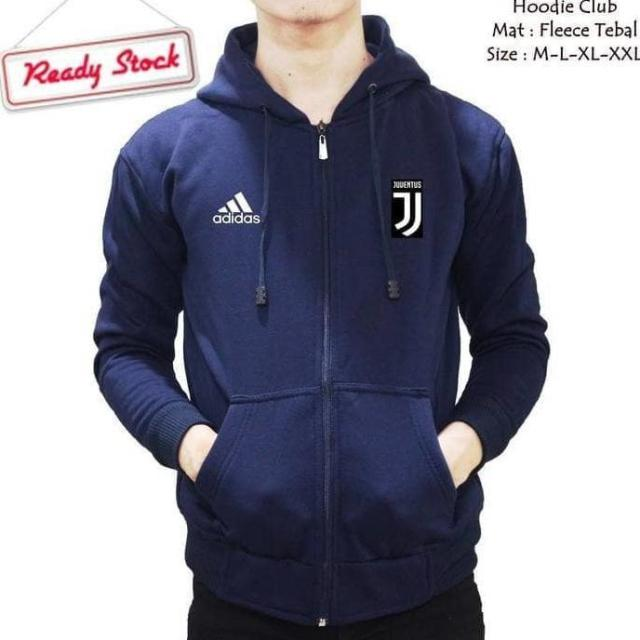jacket: (69, 6, 551, 640)
